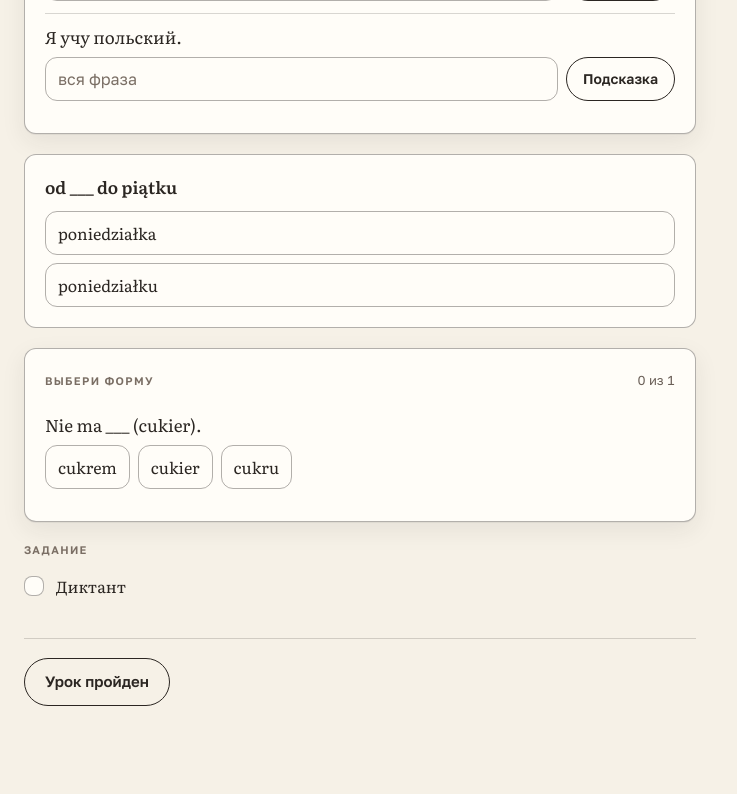
Test: CourseItemPage › rolls back and shows an error when saving fails
(page scrolled)
Check: the element with test id "checklist-hw" is shown, box [24,543,126,598]
What coordinates should you click on to do the following:
click the checkbox
I would click on:
 (75, 586)
Its box is [24,574,126,598].
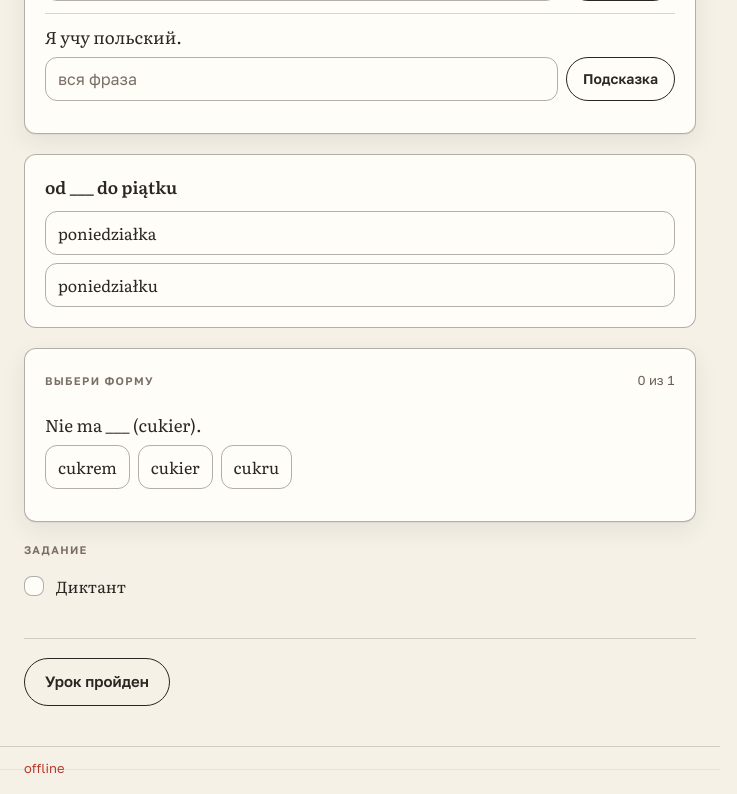
Check: the message "offline" is shown, box [0,746,720,790]
